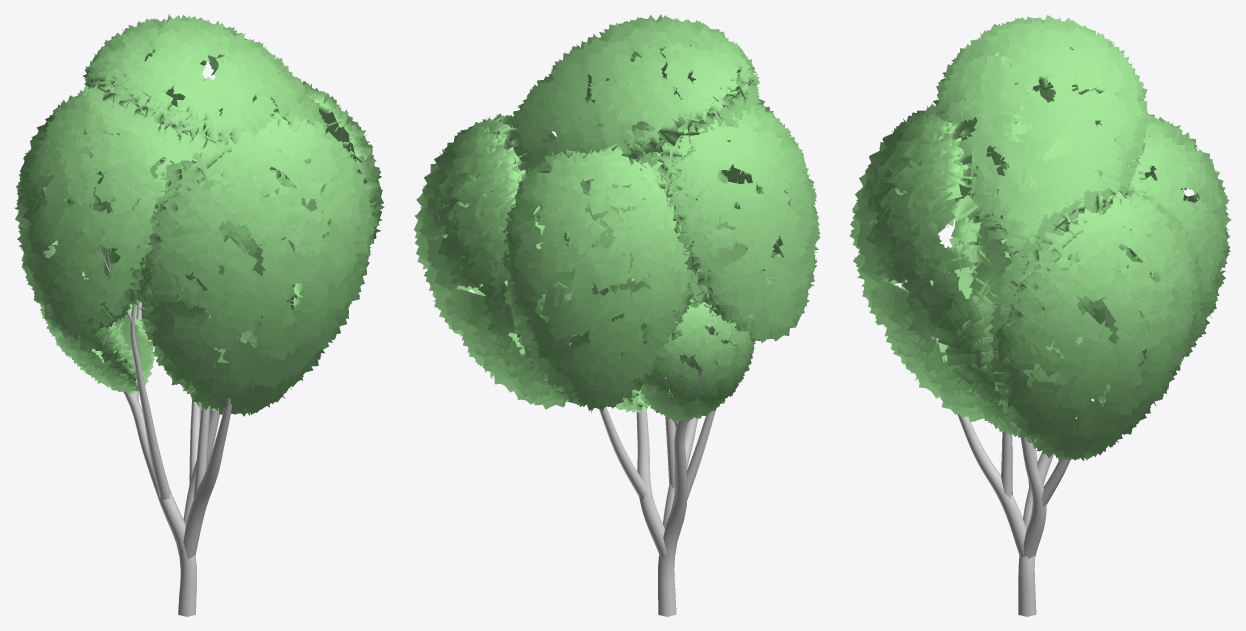
Rendered from StandarTree_2.fbx.
3 renders of one model, left to right at view 1: azimuth 30°, elevation 25°; view 2: azimuth 150°, elevation 25°; view 3: azimuth 270°, elevation 25°, orthographic.
Visible parts, largest first — view 1: Leave.001, Leave.002, Leave.003, tree, Leave.007, Leave.004, Leave.006, Leave.005; view 2: Leave.005, Leave.002, Leave.003, Leave.004, Leave.007, tree, Leave.001; view 3: Leave.004, Leave.003, Leave.001, Leave.005, tree, Leave.006, Leave.002.
Part boxes in pixels (bbox=[...]): Leave.001: bbox=[136, 109, 375, 416]; Leave.002: bbox=[15, 90, 174, 339]; Leave.003: bbox=[83, 14, 328, 195]; tree: bbox=[83, 246, 260, 616]; Leave.007: bbox=[40, 253, 154, 393]; Leave.004: bbox=[218, 81, 384, 313]; Leave.006: bbox=[195, 277, 302, 411]; Leave.005: bbox=[44, 84, 185, 317]; Leave.005: bbox=[501, 140, 694, 412]; Leave.002: bbox=[651, 99, 820, 343]; Leave.003: bbox=[513, 14, 759, 194]; Leave.004: bbox=[413, 113, 583, 409]; Leave.007: bbox=[640, 298, 755, 422]; tree: bbox=[599, 206, 740, 616]; Leave.001: bbox=[556, 53, 780, 338]; Leave.004: bbox=[988, 186, 1203, 461]; Leave.003: bbox=[933, 15, 1149, 267]; Leave.001: bbox=[849, 103, 1012, 422]; Leave.005: bbox=[1093, 113, 1230, 359]; tree: bbox=[933, 163, 1111, 616]; Leave.006: bbox=[974, 337, 1082, 436]; Leave.002: bbox=[1010, 64, 1111, 149].
Bounding box in the file's own units: 403 × 632 × 374.
